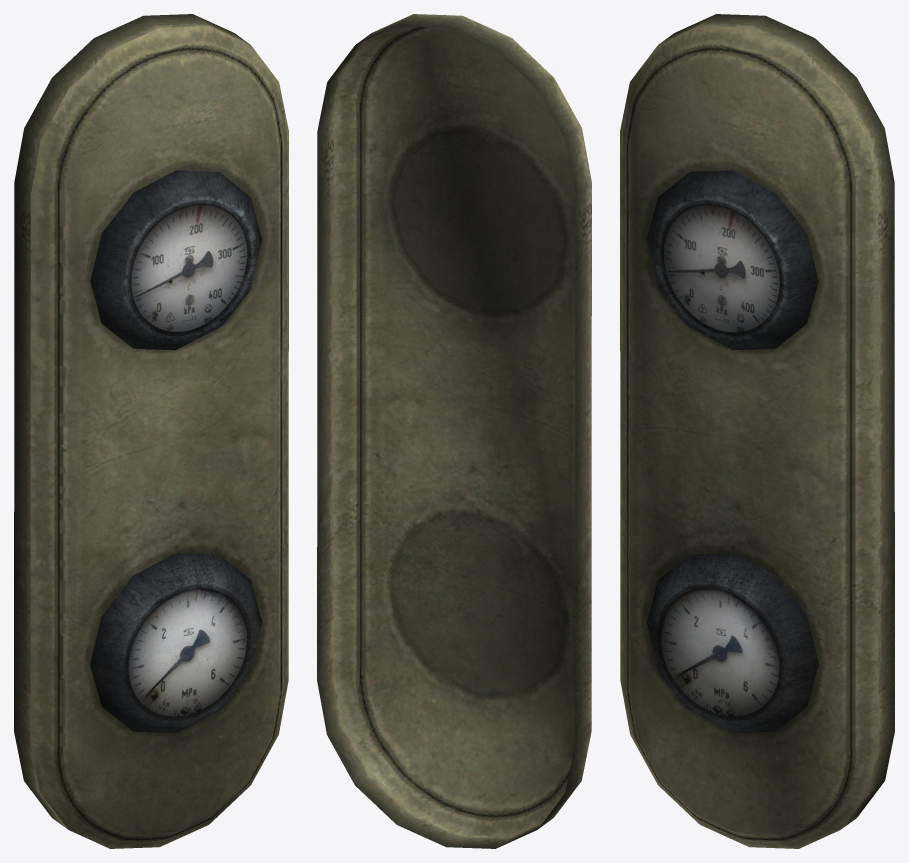
Rendered from pressure_gauges.dae.
3 views of the same model, side by side, from view 1: azimuth 30°, elevation 25°; view 2: azimuth 150°, elevation 25°; view 3: azimuth 330°, elevation 25° (orthographic).
Parts seen in each view (by area): view 1: polySurface135; view 2: polySurface135; view 3: polySurface135.
Part boxes in pixels (x1,y1,x2,y2): polySurface135: [14, 14, 288, 848]; polySurface135: [317, 14, 591, 848]; polySurface135: [620, 14, 894, 848].
Size of the model in its own units: 0.3097 by 0.9395 by 0.0938.
Materials: 1 (1 with a texture image).
